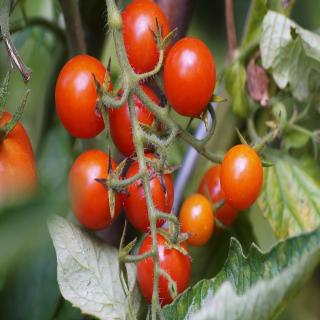Tomat: (68, 149, 130, 232), (56, 55, 115, 140), (137, 229, 193, 310), (123, 154, 175, 235), (110, 82, 164, 159), (120, 1, 172, 78), (1, 109, 40, 211), (221, 144, 265, 212), (198, 164, 240, 230), (180, 194, 216, 248)
